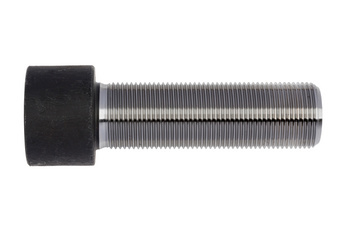screw: (102, 73, 336, 165)
